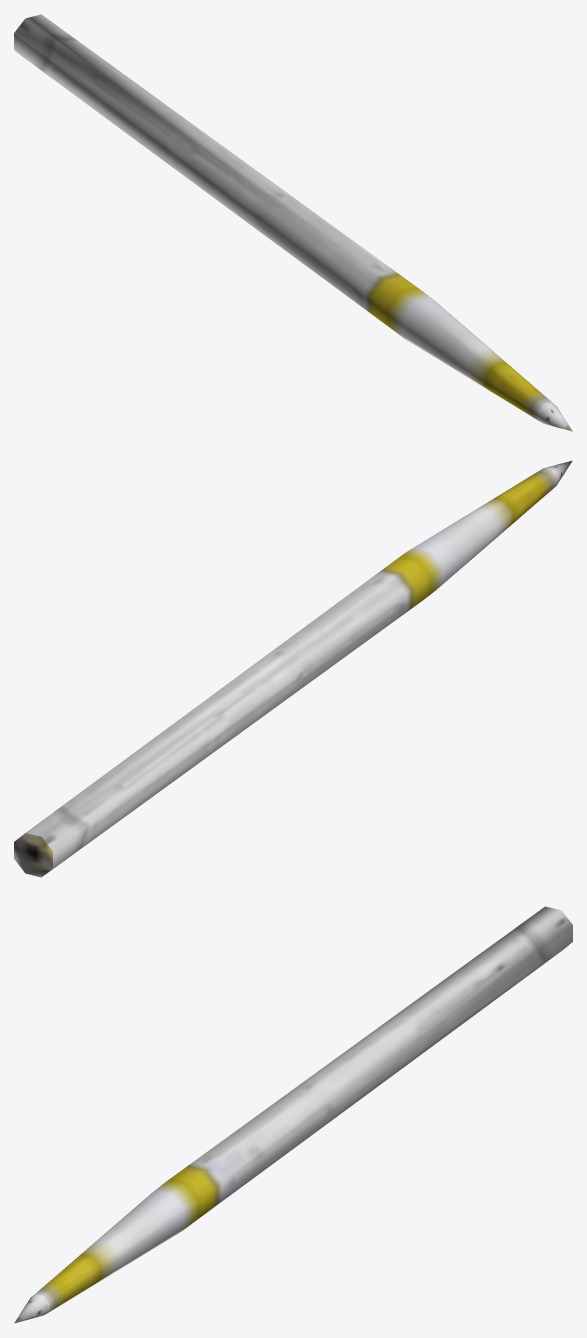
The model's file is wpn_missile_space_s04_l3.fbx.
3 renders of one model, top to bottom at view 1: azimuth 30°, elevation 25°; view 2: azimuth 150°, elevation 25°; view 3: azimuth 330°, elevation 25°, orthographic.
Parts seen in each view (by area): view 1: mesh_node; view 2: mesh_node; view 3: mesh_node.
Boxes of the visible parts, x1,y1,x2,y2 form: mesh_node: [14, 14, 572, 431]; mesh_node: [14, 460, 572, 877]; mesh_node: [14, 906, 572, 1323].
Size of the model in its own units: 0.0901 by 0.0899 by 2.
Materials: 1 (1 with a texture image).
